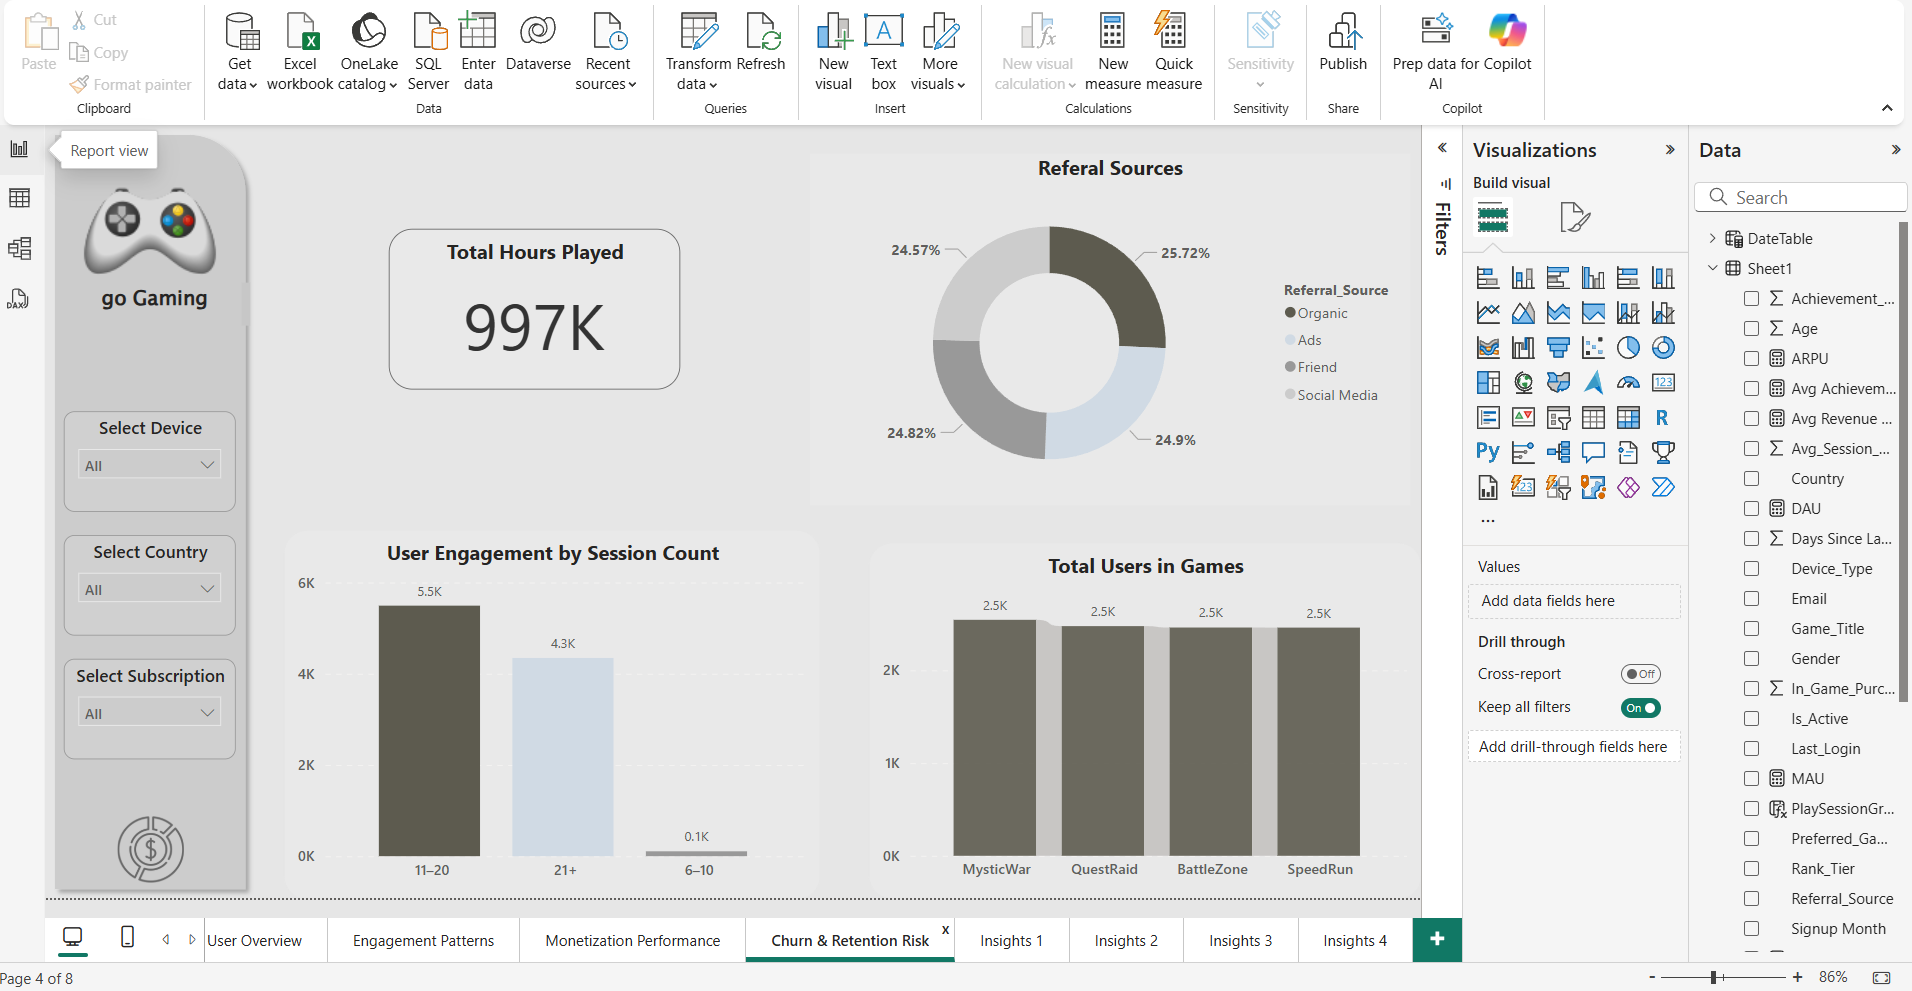

Layout of this report page (visuals, bound fields, positions):
{"tool":"powerbi","page":{"name":"Churn & Retention Risk","canvas":[1280,720],"ordinal":3},"visuals":[{"type":"columnChart","title":"Total Users in Games","fields":{"Category":["Sheet1.Game_Title"],"Y":["Sheet1.User_Count"]},"box":[766.1,388.2,514.2,331.9],"z":0},{"type":"donutChart","title":"Referal Sources","fields":{"Category":["Sheet1.Referral_Source"],"Y":["Sheet1.User_Count"]},"box":[711.3,26.7,558.6,327.5],"z":1000},{"type":"clusteredColumnChart","title":"User Engagement by Session Count","fields":{"Y":["Sheet1.User_Count"],"Category":["Sheet1.PlaySessionGroup"]},"box":[222.3,376.4,499.4,343.8],"z":2000},{"type":"card","title":"Total Hours Played","fields":{"Values":["Sheet1.Total Hours_Payed"]},"box":[320.1,96.3,271.2,149.7],"z":3000},{"type":"shape","box":[0,0,195.6,720.2],"z":4000},{"type":"image","box":[62.2,628.1,71.1,91.9],"z":5000},{"type":"image","box":[23.7,26.7,148.2,137.8],"z":6000},{"type":"textbox","box":[47.4,142.3,148.2,53.3],"z":7000},{"type":"slicer","title":"Select Device","fields":{"Values":["Sheet1.Device_Type"]},"box":[17.8,266.7,160,93.4],"z":8000},{"type":"slicer","title":"Select Country","fields":{"Values":["Sheet1.Country"]},"box":[17.8,380.8,160,93.4],"z":9000},{"type":"slicer","title":"Select Subscription","fields":{"Values":["Sheet1.Subscription_Tier"]},"box":[17.8,496.4,160,93.4],"z":10000}]}

Visuals, with their boxes on the page's 1280x720 design canvas (x1, y1, x2, y2). These are canvas units, not pixel positions in the 1912x991 screenshot, which may show the page scaled, cropped or inside an application window:
"Total Users in Games" columnChart: {"left": 766, "top": 388, "right": 1280, "bottom": 720}
"Referal Sources" donutChart: {"left": 711, "top": 27, "right": 1270, "bottom": 354}
"User Engagement by Session Count" clusteredColumnChart: {"left": 222, "top": 376, "right": 722, "bottom": 720}
"Total Hours Played" card: {"left": 320, "top": 96, "right": 591, "bottom": 246}
shape: {"left": 0, "top": 0, "right": 196, "bottom": 720}
image: {"left": 62, "top": 628, "right": 133, "bottom": 720}
image: {"left": 24, "top": 27, "right": 172, "bottom": 164}
textbox: {"left": 47, "top": 142, "right": 196, "bottom": 196}
"Select Device" slicer: {"left": 18, "top": 267, "right": 178, "bottom": 360}
"Select Country" slicer: {"left": 18, "top": 381, "right": 178, "bottom": 474}
"Select Subscription" slicer: {"left": 18, "top": 496, "right": 178, "bottom": 590}
